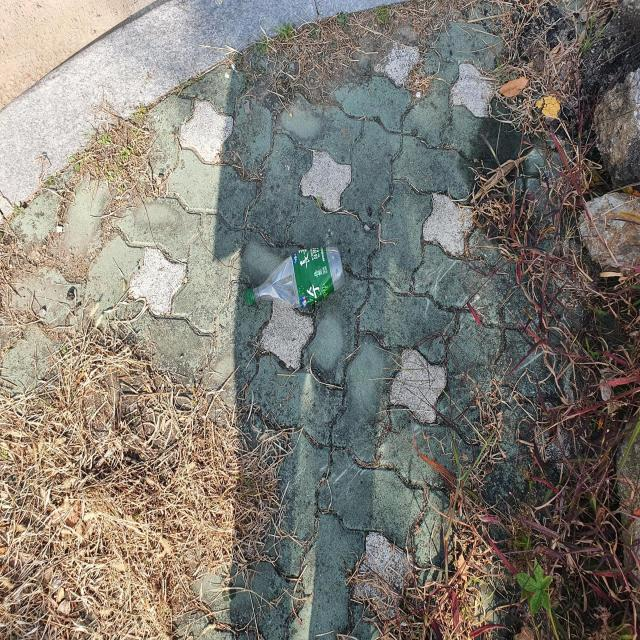plastic: (244, 247, 344, 308)
